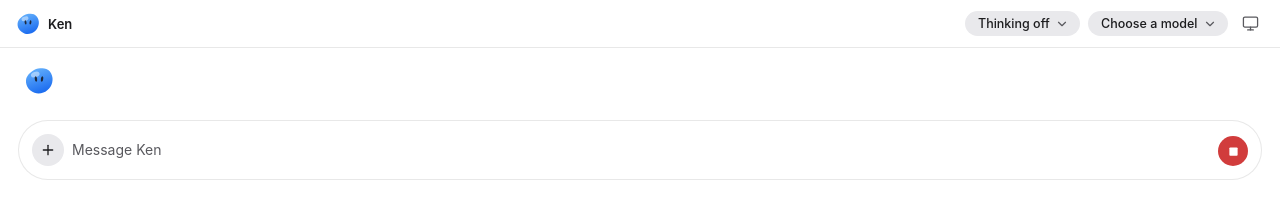
Test: ChatPane › keeps Send reachable mid-reply, so a follow-up can steer the turn
Type "actually, in French" into the text box labelled "Message Ken" at (641, 150), box [72,134,1210,166]
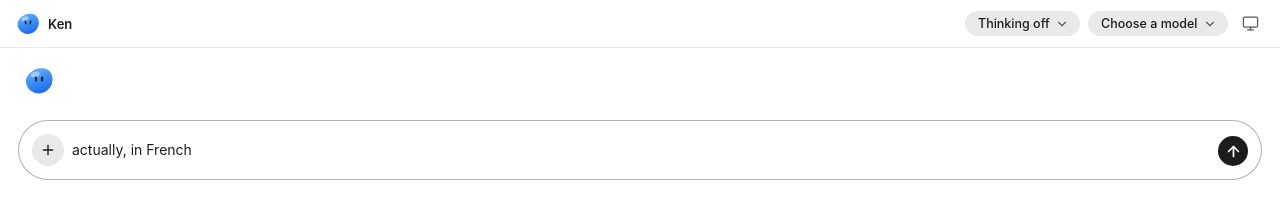
Expected: the button named "Send message" is shown, [1218,136,1248,166]
